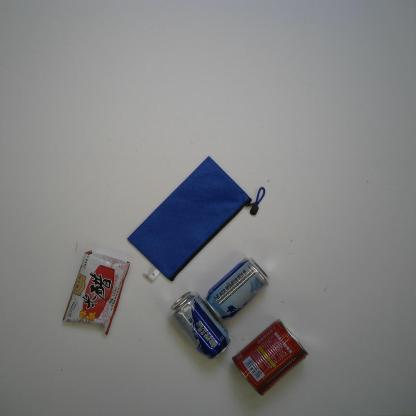Alcohol: (167, 288, 232, 362), (203, 254, 272, 320)
Canned Food: (229, 318, 310, 400)
Seasoner: (60, 240, 132, 338)
Stationery: (126, 151, 267, 287)
